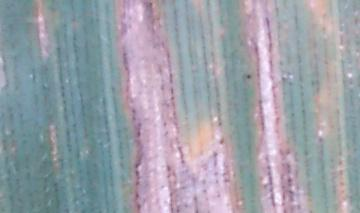tarspot: (244, 71, 254, 82)
